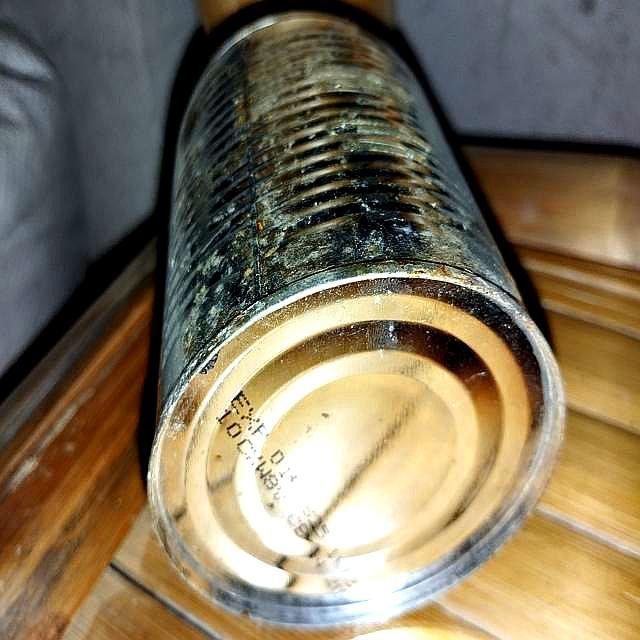Non-biodegradable: (146, 10, 572, 635)
